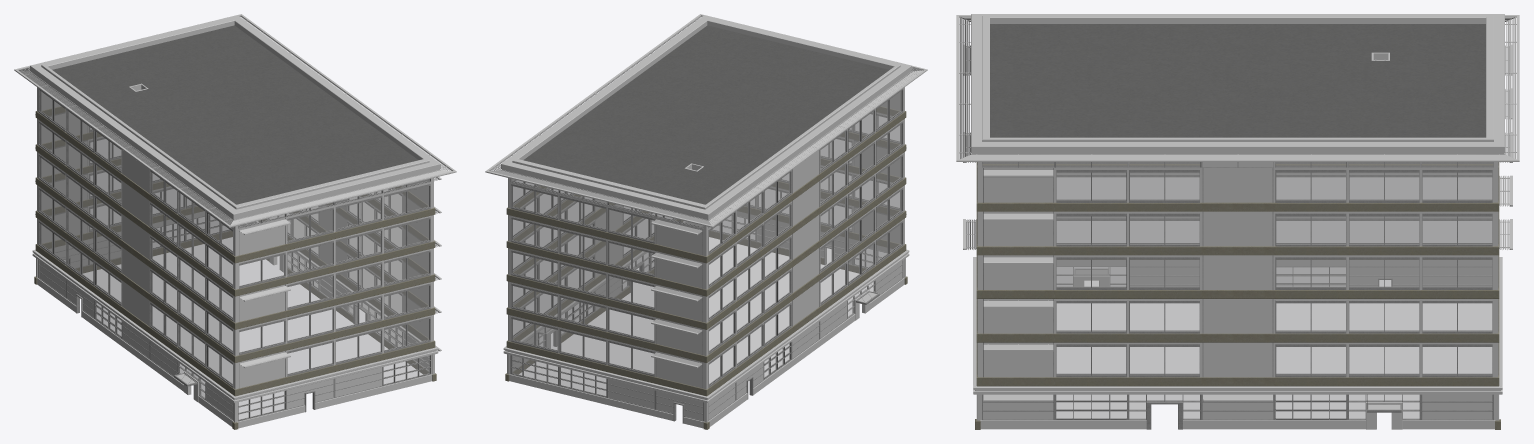
The model's file is Building01_01.fbx.
3 renders of one model, left to right at view 1: azimuth 30°, elevation 25°; view 2: azimuth 150°, elevation 25°; view 3: azimuth 270°, elevation 25°, orthographic. The views are drawn at different scales.
Parts seen in each view (by area): view 1: Building01_01; view 2: Building01_01; view 3: Building01_01.
Part boxes in pixels (x1,y1,x2,y2): Building01_01: (14,14,456,429); Building01_01: (485,14,927,429); Building01_01: (956,14,1519,429).
Bounding box in the file's own units: 2899 × 2675 × 4749.
